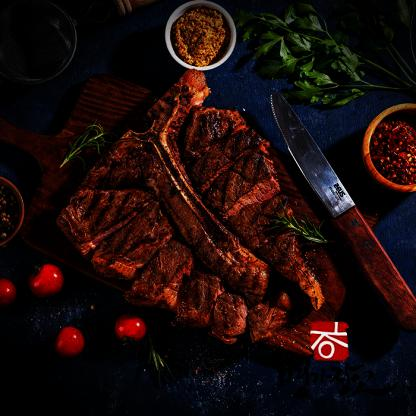Carne: (183, 105, 330, 303), (82, 209, 175, 270), (66, 186, 150, 246), (119, 240, 193, 303), (169, 268, 219, 325), (207, 294, 247, 340), (252, 300, 288, 342)
